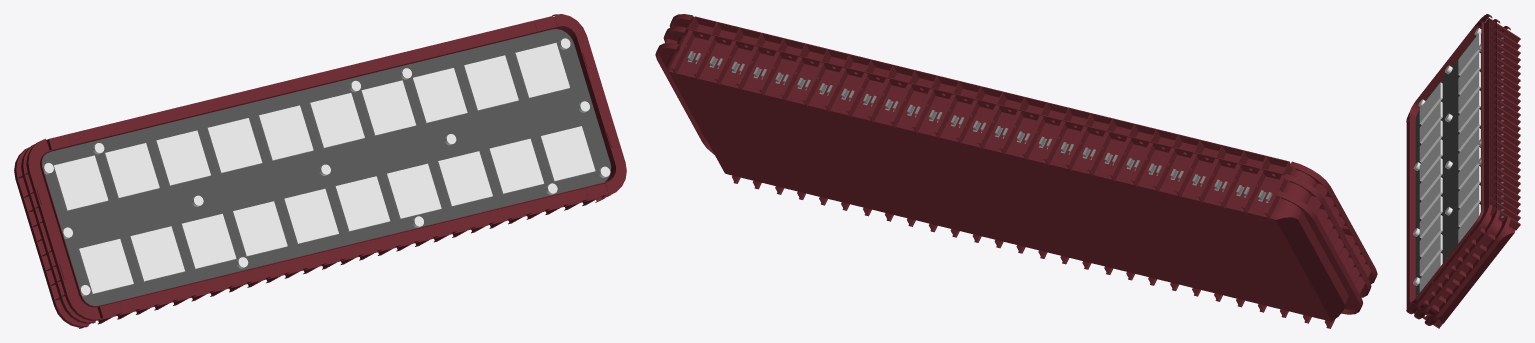
File: potline.glb
3 views of the same model, side by side, from view 1: azimuth 30°, elevation 25°; view 2: azimuth 150°, elevation 25°; view 3: azimuth 270°, elevation 25° (orthographic). The views are drawn at different scales.
Visible parts, largest first — view 1: Cube, PartBody.042, Cube.002, Cube.001; view 2: PartBody.042, s35; view 3: PartBody.042, Cube.001, Cube, Cube.002, s35.
Boxes of the visible parts, bbox=[...] form: Cube: bbox=[42, 29, 611, 305]; PartBody.042: bbox=[14, 14, 626, 328]; Cube.002: bbox=[53, 42, 569, 210]; Cube.001: bbox=[78, 126, 595, 294]; PartBody.042: bbox=[655, 14, 1377, 328]; s35: bbox=[687, 51, 1272, 202]; PartBody.042: bbox=[1406, 14, 1520, 328]; Cube.001: bbox=[1419, 82, 1442, 292]; Cube: bbox=[1415, 34, 1481, 297]; Cube.002: bbox=[1458, 33, 1480, 243]; s35: bbox=[1501, 37, 1503, 217].
Size of the model in its own units: 22.84 by 6.52 by 5.38.
